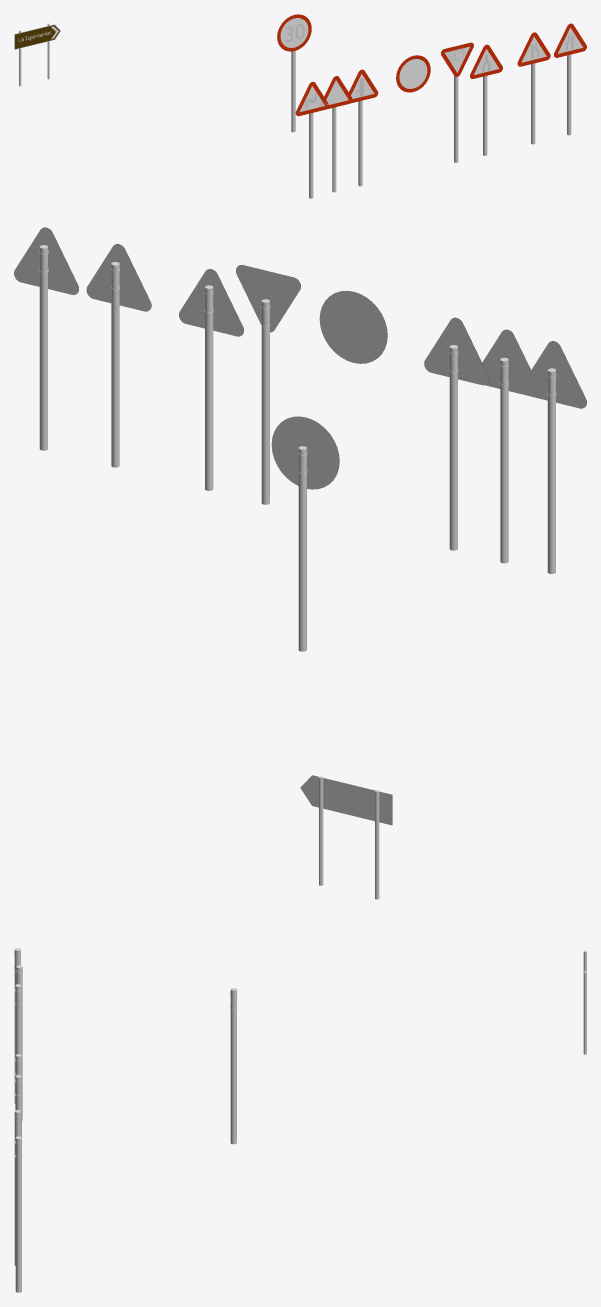
File: road signs.fbx
3 renders of one model, top to bottom at view 1: azimuth 30°, elevation 25°; view 2: azimuth 150°, elevation 25°; view 3: azimuth 270°, elevation 25°, orthographic. The views are drawn at different scales.
Parts seen in each view (by area): view 1: road sign round plate blank, speed limit sign plate, brown sign plate, give way sign plate, road narrows right sign plate, road narrows left sign plate, road bend sign plate, road sign triangle plate blank, road narrows sign plate, left turn sign plate, give way sign leg, post original.001 (+6 smaller); view 2: road sign round plate blank, speed limit sign plate, brown sign plate, give way sign plate, left turn sign plate, road narrows right sign plate, road narrows left sign plate, road narrows sign plate, road bend sign plate, road sign triangle plate blank, road bend sign leg, speed limit sign leg (+7 smaller); view 3: road narrows left leg, speed limit sign leg, post original.001.
Part boxes in pixels (box(x1,y1,x2,y2)): road sign round plate blank: box(396, 55, 430, 92); speed limit sign plate: box(277, 14, 311, 51); brown sign plate: box(14, 24, 60, 49); give way sign plate: box(440, 42, 473, 76); road narrows right sign plate: box(517, 32, 550, 66); road narrows left sign plate: box(554, 23, 586, 57); road bend sign plate: box(295, 81, 328, 116); road sign triangle plate blank: box(320, 76, 352, 109); road narrows sign plate: box(470, 44, 502, 78); left turn sign plate: box(349, 69, 378, 103); give way sign leg: box(454, 76, 458, 162); post original.001: box(358, 100, 362, 186); road sign round plate blank: box(319, 291, 387, 363); speed limit sign plate: box(271, 416, 339, 489); brown sign plate: box(300, 775, 392, 825); give way sign plate: box(236, 265, 300, 332); left turn sign plate: box(424, 317, 489, 385); road narrows right sign plate: box(86, 244, 151, 311); road narrows left sign plate: box(14, 227, 78, 294); road narrows sign plate: box(179, 269, 243, 336); road bend sign plate: box(522, 341, 586, 408); road sign triangle plate blank: box(482, 329, 540, 397); road bend sign leg: box(547, 368, 556, 573); speed limit sign leg: box(298, 446, 307, 651); road narrows left leg: box(15, 1136, 22, 1292); speed limit sign leg: box(230, 988, 237, 1144); post original.001: box(15, 984, 21, 1110).
Bounding box in the file's own units: 198 × 59.43 × 172.
